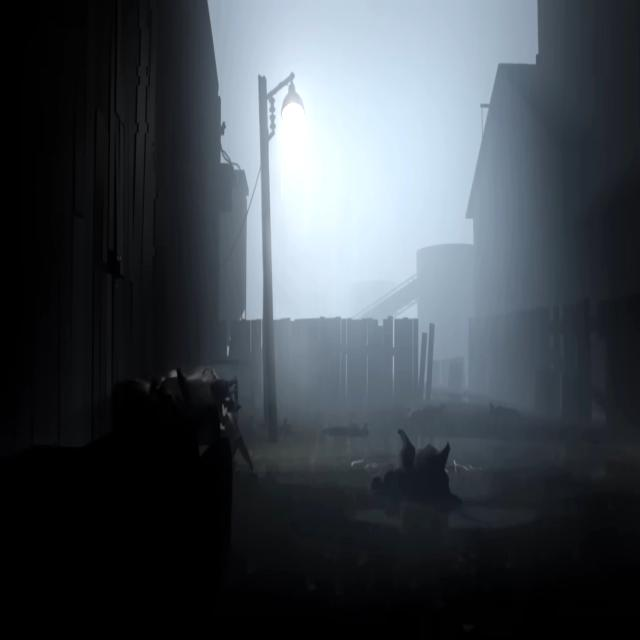boy: (218, 397, 256, 470)
